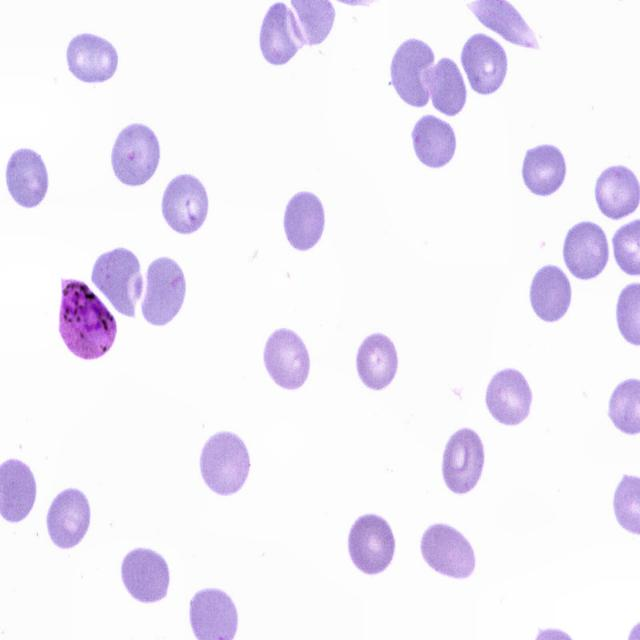red blood cell: (198, 426, 253, 498), (89, 250, 143, 321), (388, 34, 438, 108), (139, 252, 187, 328), (110, 120, 162, 188), (262, 325, 314, 392), (440, 423, 486, 498), (158, 172, 210, 235), (421, 523, 476, 581), (485, 365, 535, 428), (46, 484, 92, 552), (562, 218, 610, 283), (348, 510, 395, 576), (459, 32, 508, 95), (260, 1, 306, 68), (64, 31, 120, 85), (4, 146, 51, 209), (354, 327, 398, 391), (121, 547, 170, 604), (530, 259, 572, 324), (521, 142, 568, 200), (283, 190, 325, 254), (412, 112, 458, 170), (426, 55, 468, 117)
schizont: (56, 276, 117, 362)
